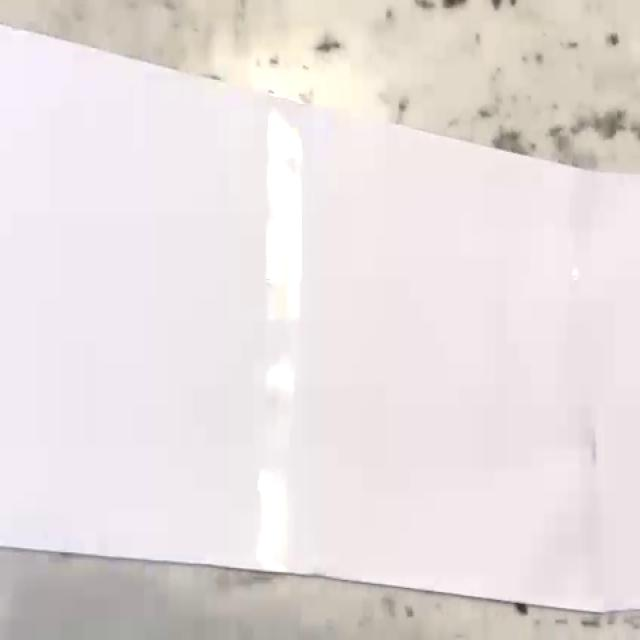road: (0, 25, 640, 611)
